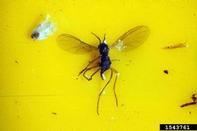Fruit fly: (62, 27, 141, 95)
